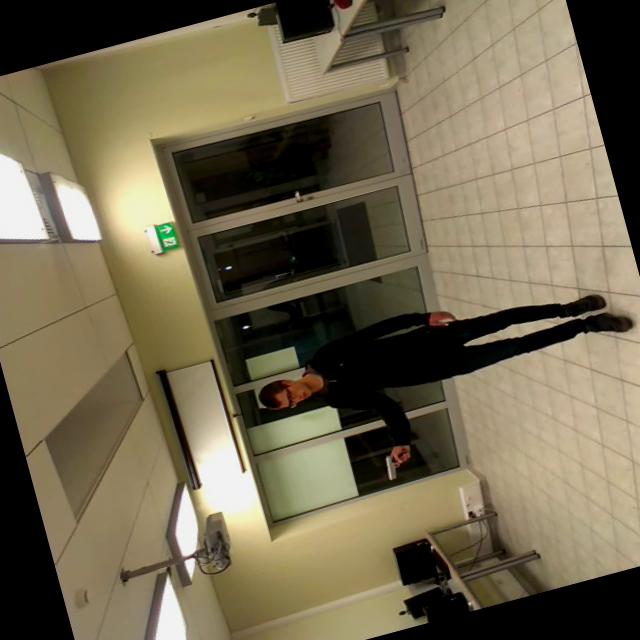handgun: (366, 432, 426, 486)
